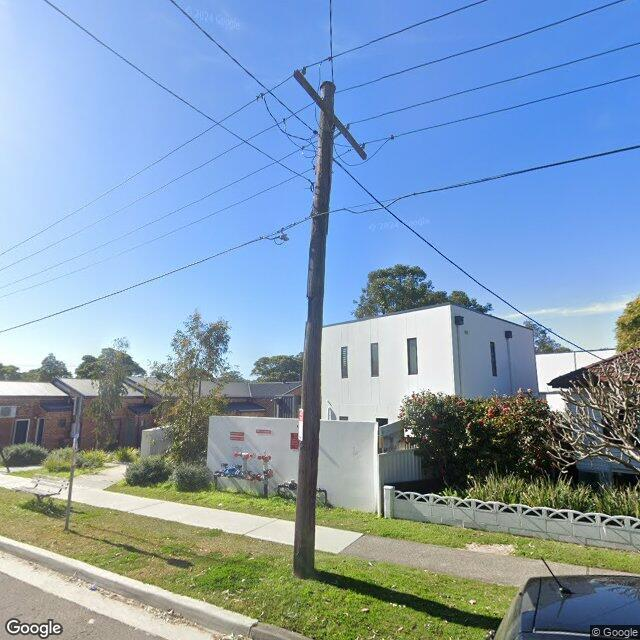crossarm: (292, 70, 367, 162)
timber-pole: (292, 80, 338, 575)
